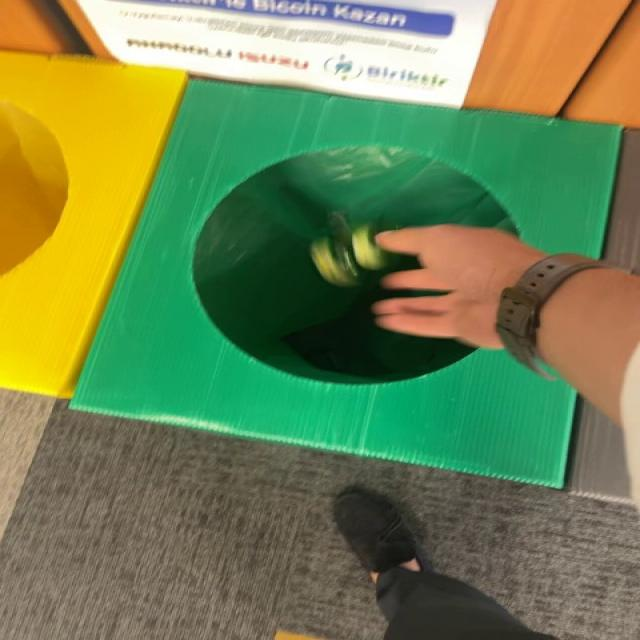glass: (309, 211, 391, 288)
